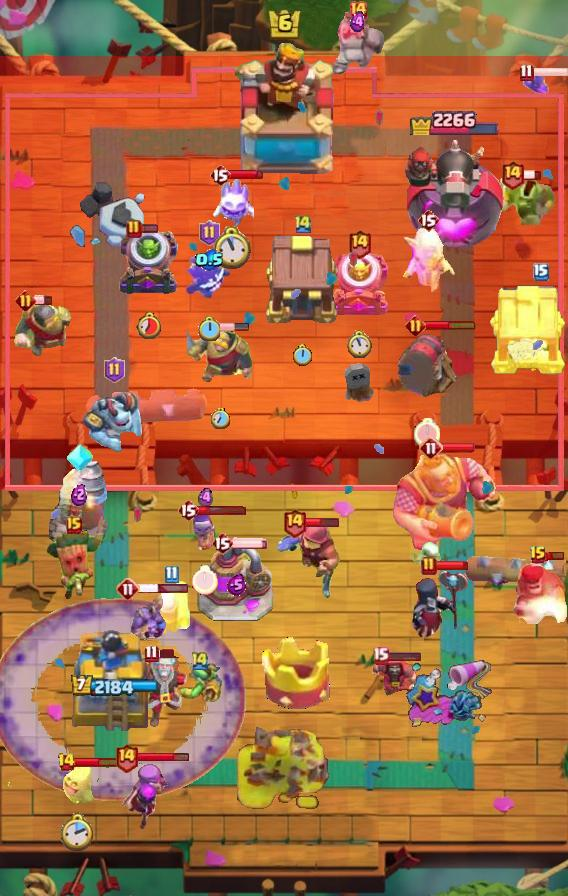bar: (74, 756, 127, 768), (424, 319, 477, 331), (137, 752, 190, 763), (137, 583, 189, 594), (197, 505, 247, 516), (231, 537, 269, 549), (386, 650, 422, 662), (440, 442, 476, 454), (228, 169, 264, 181), (532, 66, 568, 78), (305, 516, 340, 528), (435, 560, 469, 571), (214, 322, 250, 332), (522, 169, 542, 181), (156, 648, 176, 659), (545, 550, 565, 561), (34, 295, 53, 306), (140, 223, 159, 234)
bar-level: (114, 742, 139, 773), (282, 507, 307, 538), (347, 228, 372, 259), (500, 159, 525, 190), (116, 577, 140, 601), (419, 436, 443, 460), (104, 357, 125, 383), (199, 220, 220, 246), (211, 531, 233, 555), (177, 498, 199, 522), (417, 208, 439, 232), (209, 163, 231, 187), (405, 315, 426, 336), (15, 290, 36, 311), (190, 650, 210, 671), (293, 213, 313, 234), (348, 0, 368, 20), (57, 752, 76, 772), (529, 545, 547, 565), (372, 646, 389, 665), (421, 556, 437, 576), (126, 219, 142, 239), (66, 516, 82, 534), (533, 263, 549, 281), (144, 644, 159, 663), (164, 565, 179, 584), (519, 63, 534, 82)
bat-evolution: (520, 71, 552, 97)
cannoneer-tower: (400, 132, 507, 256)
clock: (213, 226, 251, 270), (61, 812, 95, 853), (192, 565, 218, 595), (414, 418, 440, 448), (136, 311, 163, 339), (347, 330, 372, 359), (198, 316, 220, 341), (293, 344, 313, 367), (211, 408, 230, 429)
dart-goblin: (45, 525, 103, 603)
electro-spirit: (185, 251, 233, 299)
elixir: (195, 249, 224, 271), (227, 574, 246, 596), (71, 483, 87, 506), (350, 11, 366, 33), (198, 487, 213, 509)
firecracker: (150, 578, 192, 636)
goblin-brawler: (497, 175, 557, 225)
golemite: (329, 12, 387, 76)
heal-spirit: (61, 760, 95, 804)
hunter: (510, 560, 568, 624)
ice-spirit-evolution: (210, 174, 254, 228)
ice-spirit-evolution-symbol: (65, 443, 95, 473)
ice-wizard: (124, 650, 204, 728)
king-tower: (228, 41, 340, 181)
knight: (187, 327, 253, 384), (13, 302, 72, 358)
mega-minion: (82, 388, 146, 454)
minion: (126, 593, 166, 641)
mortar-evolution: (327, 249, 391, 319), (117, 227, 181, 297)
mother-witch: (116, 762, 170, 832)
night-witch: (410, 568, 470, 642)
queen-tower: (64, 621, 164, 731)
skeleton: (410, 542, 444, 574)
skeleton-evolution: (189, 512, 221, 554)
spear-goblin: (176, 661, 224, 703)
the-log: (82, 383, 210, 429), (465, 551, 568, 589)
tower-bar: (407, 104, 499, 135), (70, 675, 158, 698)
wizard: (370, 652, 420, 702)
